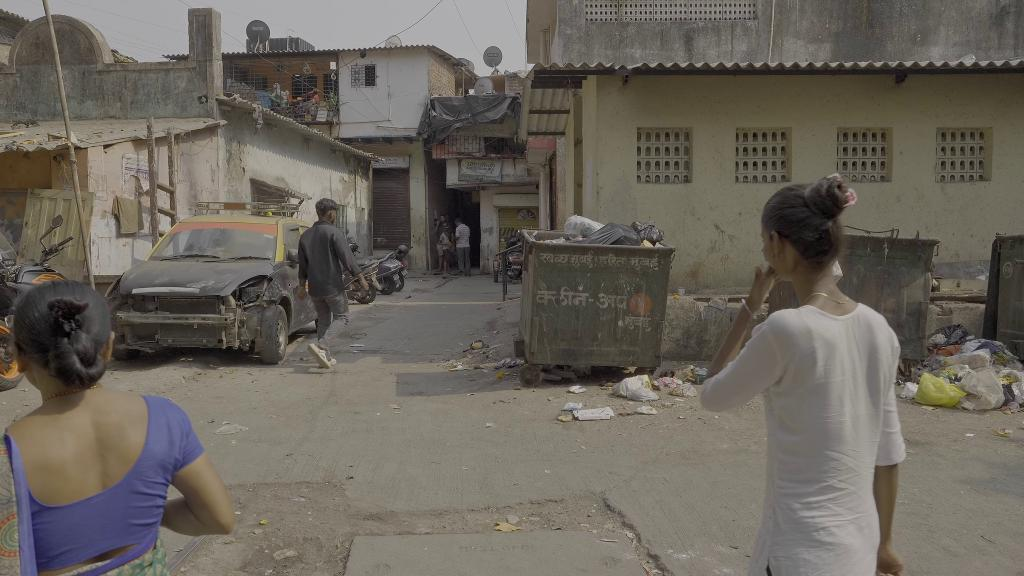dustbin: (518, 224, 682, 382)
garbage: (943, 366, 1005, 413), (914, 368, 973, 411), (609, 370, 663, 406)
